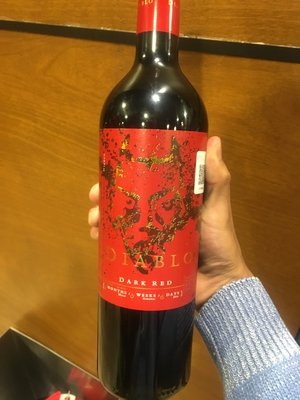diablo dark red: (88, 9, 235, 400)
